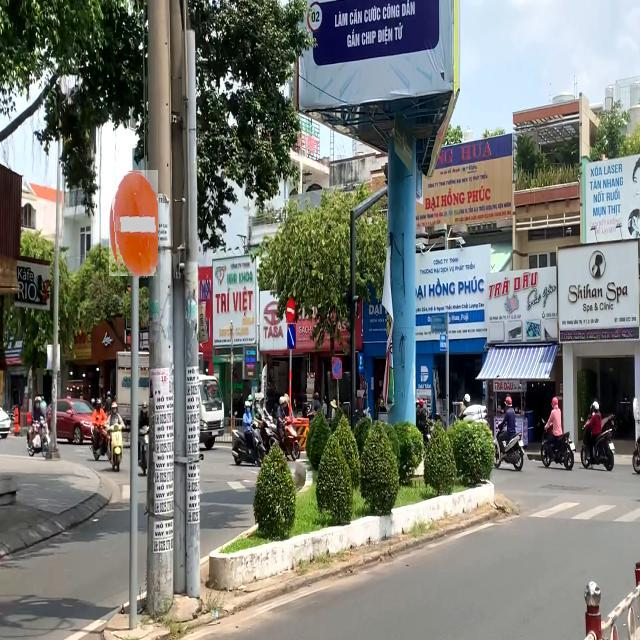P-102: (109, 170, 158, 276), (286, 297, 297, 323)
P-131a: (333, 357, 343, 379)
R-302a: (287, 324, 296, 349)
